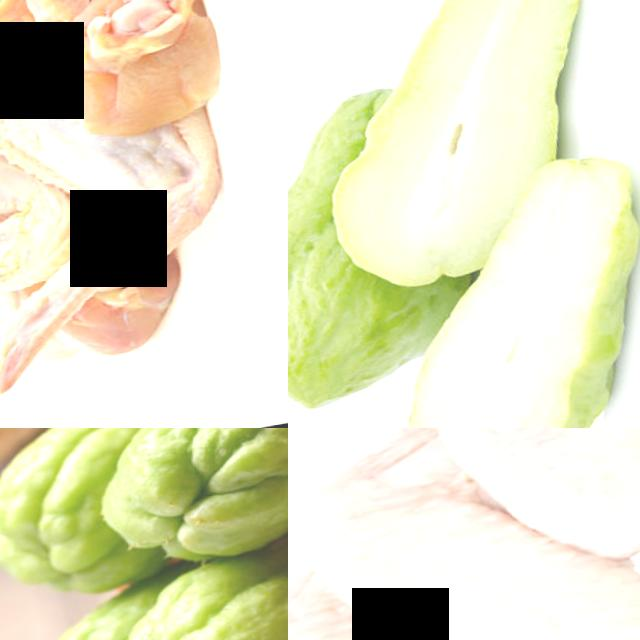chayote: (332, 0, 516, 270), (397, 307, 601, 428), (118, 428, 288, 569), (288, 275, 398, 428), (118, 563, 288, 640)
chicken wing: (0, 0, 257, 406), (396, 428, 640, 581)
